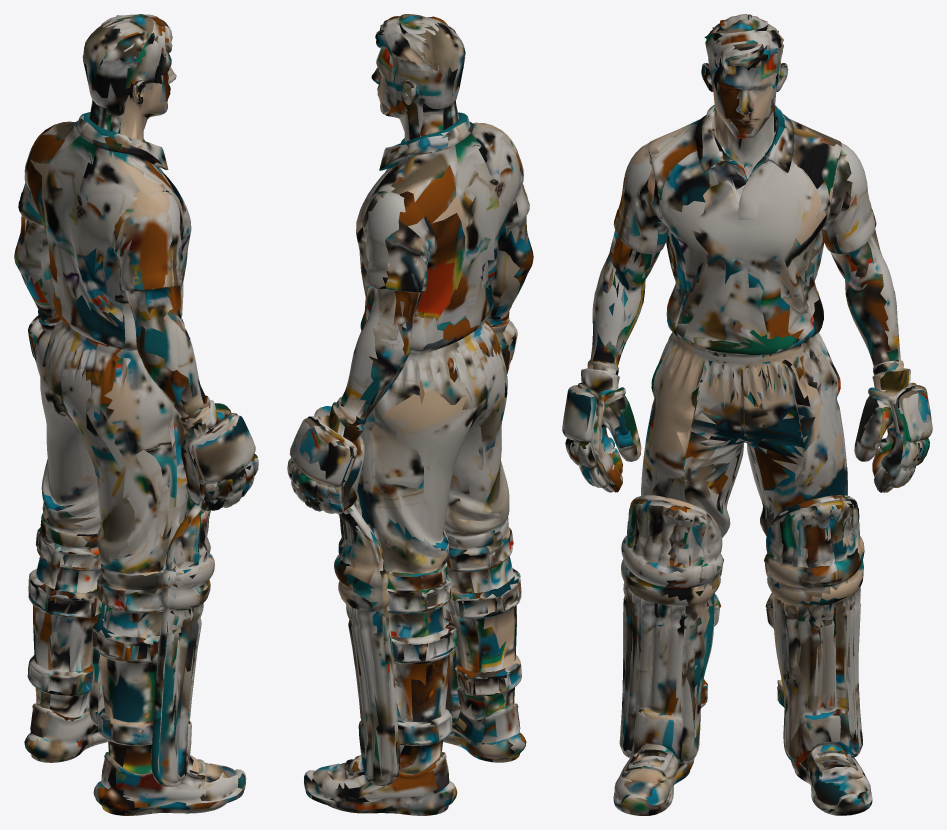
Rendered from SM_C26_Player_Fielder1.fbx.
3 views of the same model, side by side, from view 1: azimuth 30°, elevation 25°; view 2: azimuth 150°, elevation 25°; view 3: azimuth 270°, elevation 25° (orthographic). The views are drawn at different scales.
Visible parts, largest first — view 1: node_0; view 2: node_0; view 3: node_0.
Boxes of the visible parts, x1,y1,x2,y2 form: node_0: (14, 14, 258, 815); node_0: (287, 14, 533, 815); node_0: (562, 14, 932, 815).
Bounding box in the file's own units: 79.19 × 33.42 × 182.
